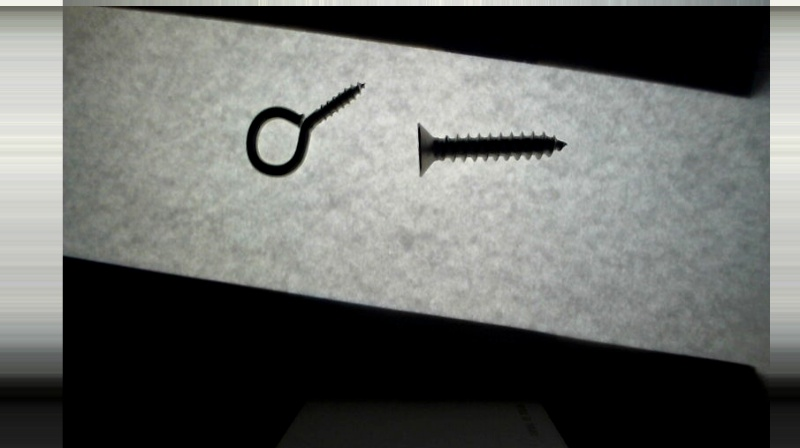O001: (246, 80, 365, 174)
S001: (415, 120, 570, 177)
